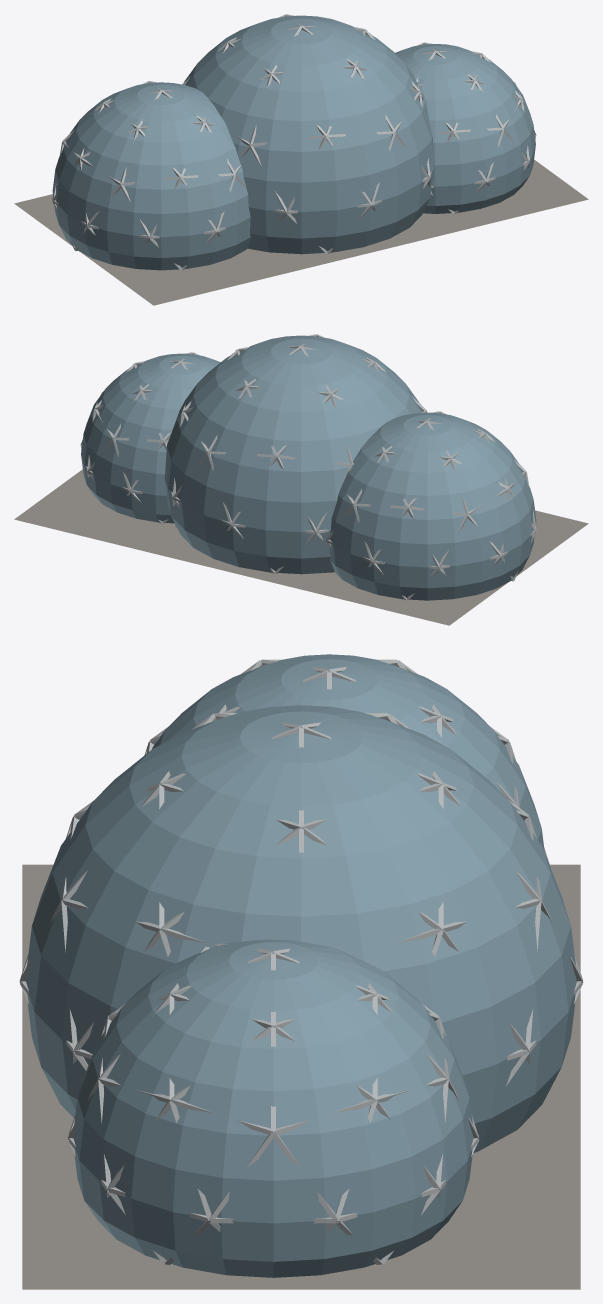
File: amazon_spheres.glb
3 renders of one model, top to bottom at view 1: azimuth 30°, elevation 25°; view 2: azimuth 150°, elevation 25°; view 3: azimuth 270°, elevation 25°, orthographic. The views are drawn at different scales.
Visible parts, largest first — view 1: amazon_spheres; view 2: amazon_spheres; view 3: amazon_spheres.
Boxes of the visible parts, <box> form: amazon_spheres: <box>14,14,588,305</box>; amazon_spheres: <box>14,334,588,625</box>; amazon_spheres: <box>19,654,583,1289</box>.
Size of the model in its own units: 73.6 by 27.98 by 40.39.
1 material, 1 textured.
